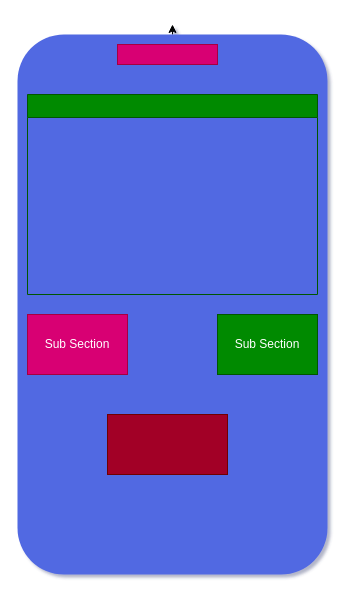
The diagram is 350 pixels wide and 598 high, and some of its shapes have lost their labels. The centre of each missing label's shape, as x and y in pixels:
"Container" belongs at pixel 172 194.
"Organization" belongs at pixel 167 444.
